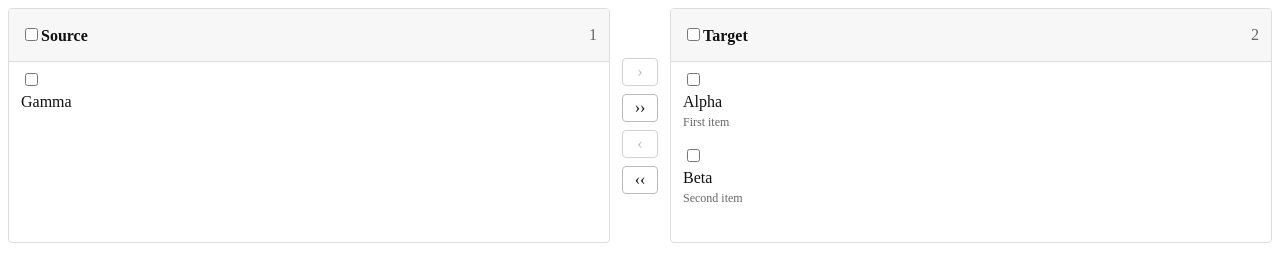
Test: CTransfer › moves selected target items back to source
Click the option "Beta Second item".
click(713, 177)  # box [683,149,743,205]
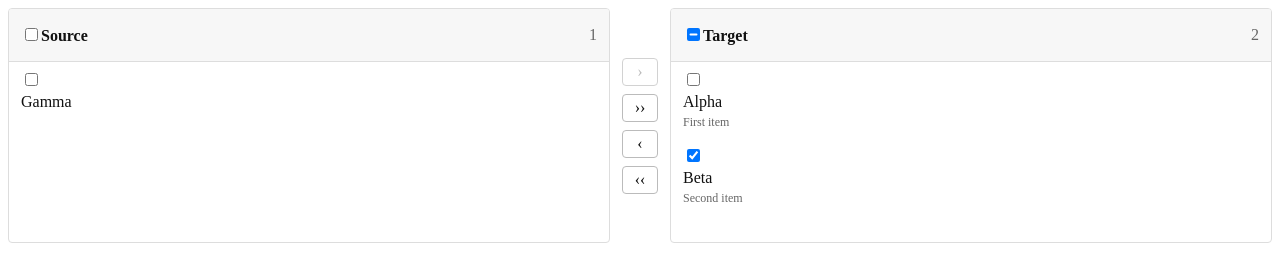
Click the button named "Move selected to source".
click(640, 144)  # box [622,130,658,158]
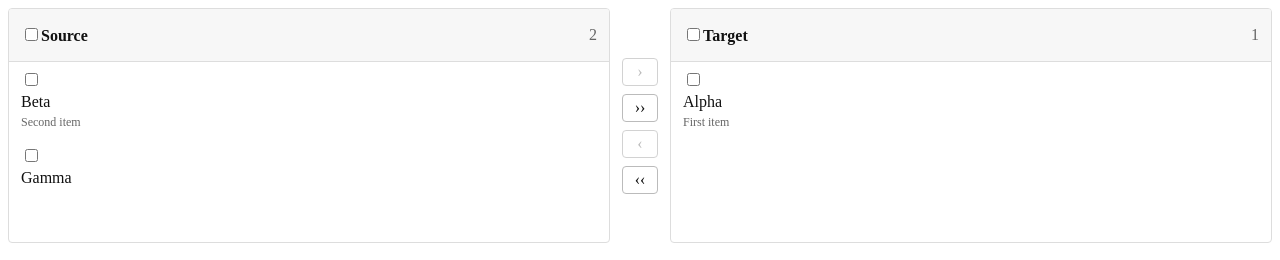
Expected: the list "Beta Second item Gamma" is shown, [21,73,81,186]
